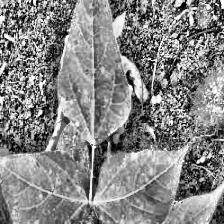Bean Rust: (58, 0, 130, 142), (96, 149, 191, 224), (0, 150, 84, 224), (145, 177, 224, 224)
